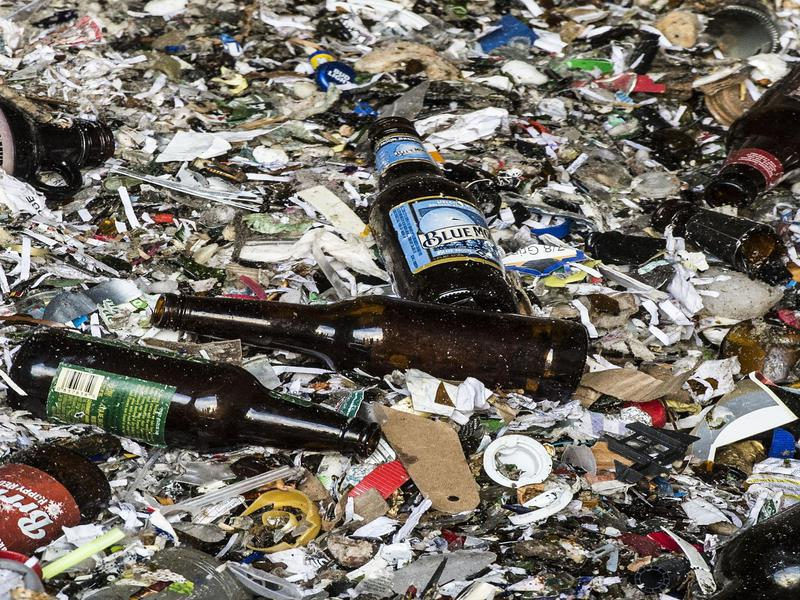bottle: (1, 326, 384, 462), (146, 290, 594, 402), (358, 113, 526, 310)
paper: (687, 362, 798, 470), (147, 120, 277, 167), (397, 364, 493, 422), (410, 99, 511, 151)
